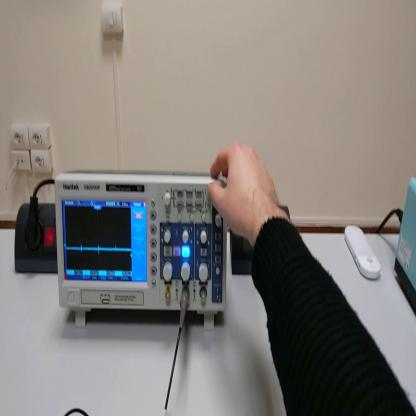hand: (207, 143, 286, 241)
oscilloscope: (56, 174, 229, 332)
socket: (14, 203, 59, 278)
welder station: (400, 170, 416, 317)
